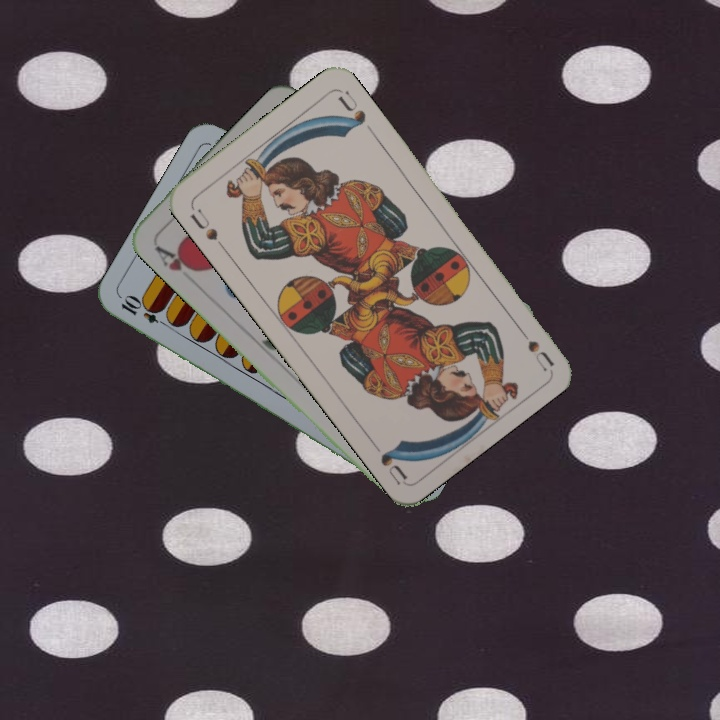E10: (117, 293, 173, 331)
HA: (150, 241, 202, 275)
SU: (511, 319, 556, 373), (186, 204, 228, 253)
